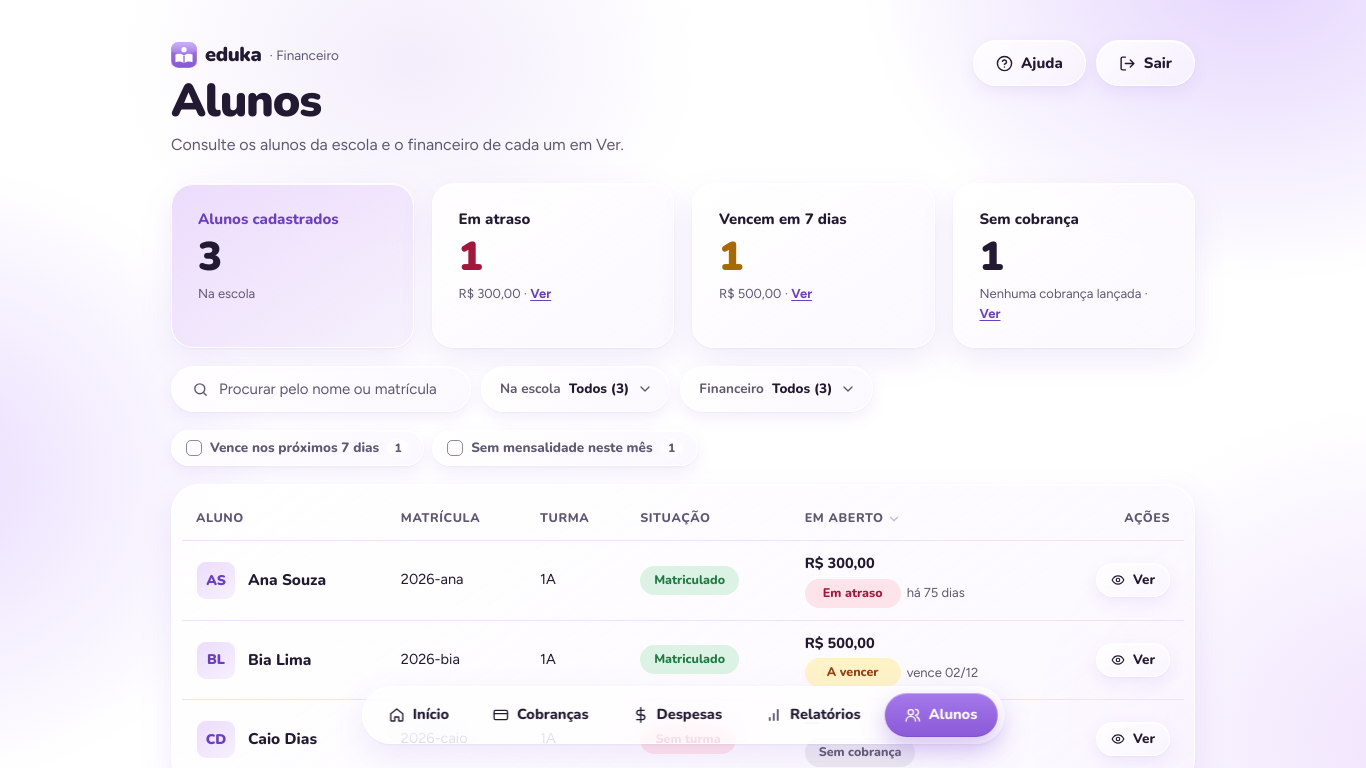
Alunos: o financeiro de cada aluno › combina o filtro da escola com o financeiro e os demais filtros, e limpa todos
Expected: the text "Ana Souza" is shown, [248, 570, 326, 590]
Click the dropdown named "Filtrar por situação" at [576, 389], box [481, 366, 670, 412]
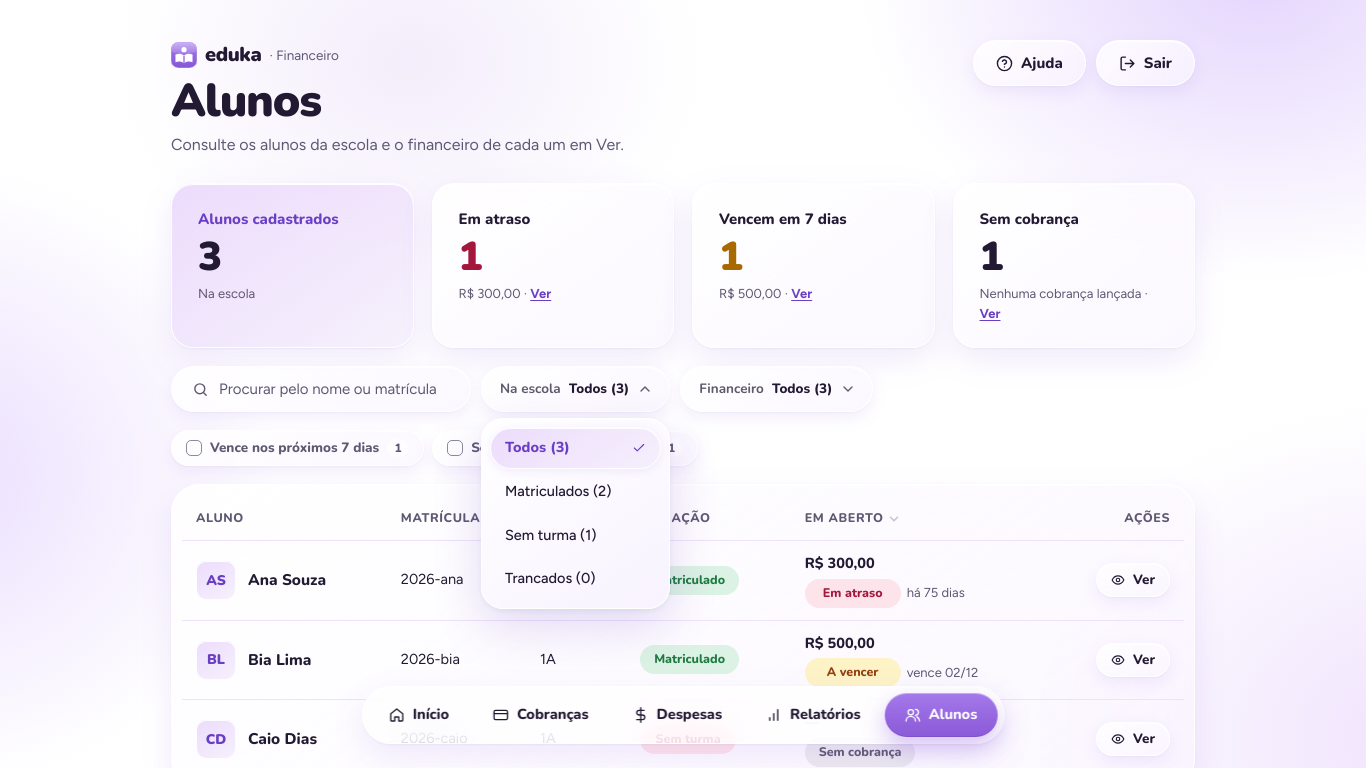
Click the option "Sem turma (1)" at [551, 535], box [505, 526, 596, 544]
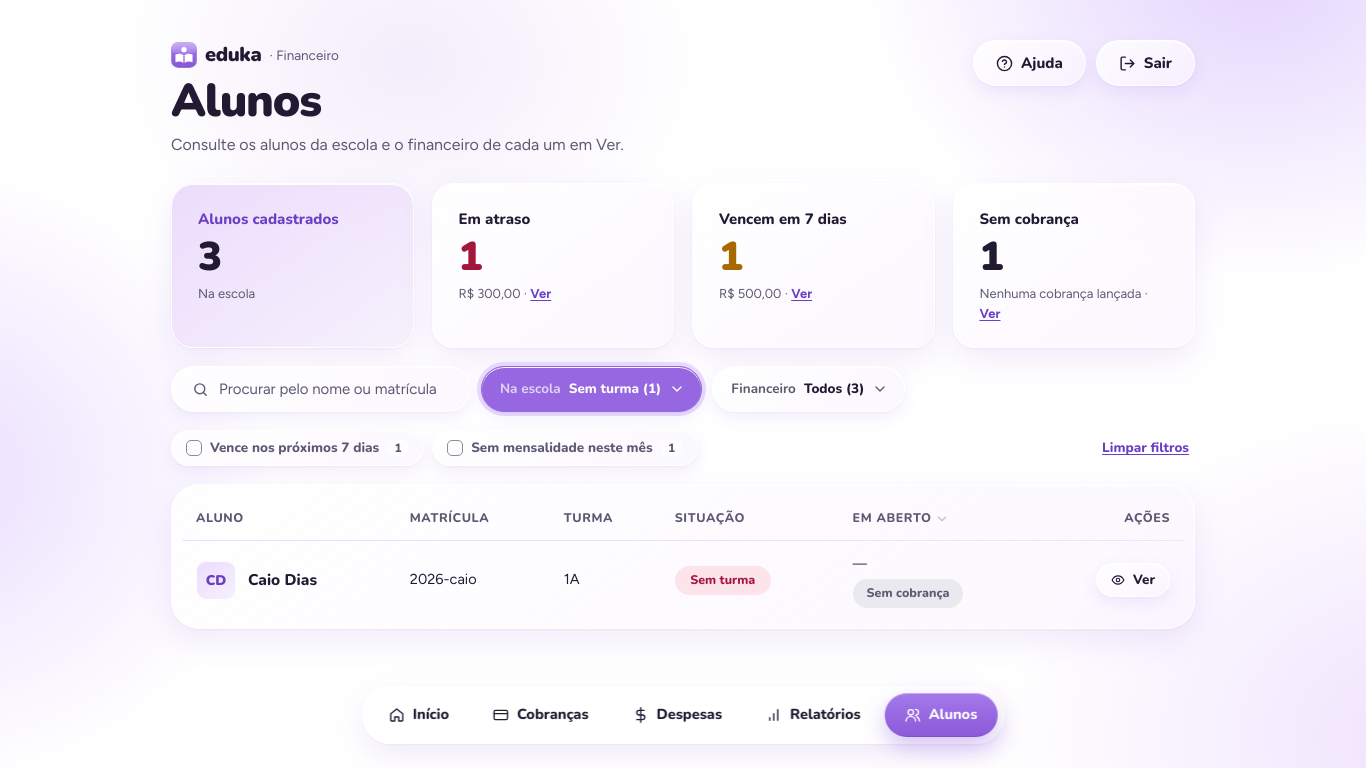
Click the button "Sem mensalidade neste mês 1" at [565, 448], box [432, 430, 698, 466]
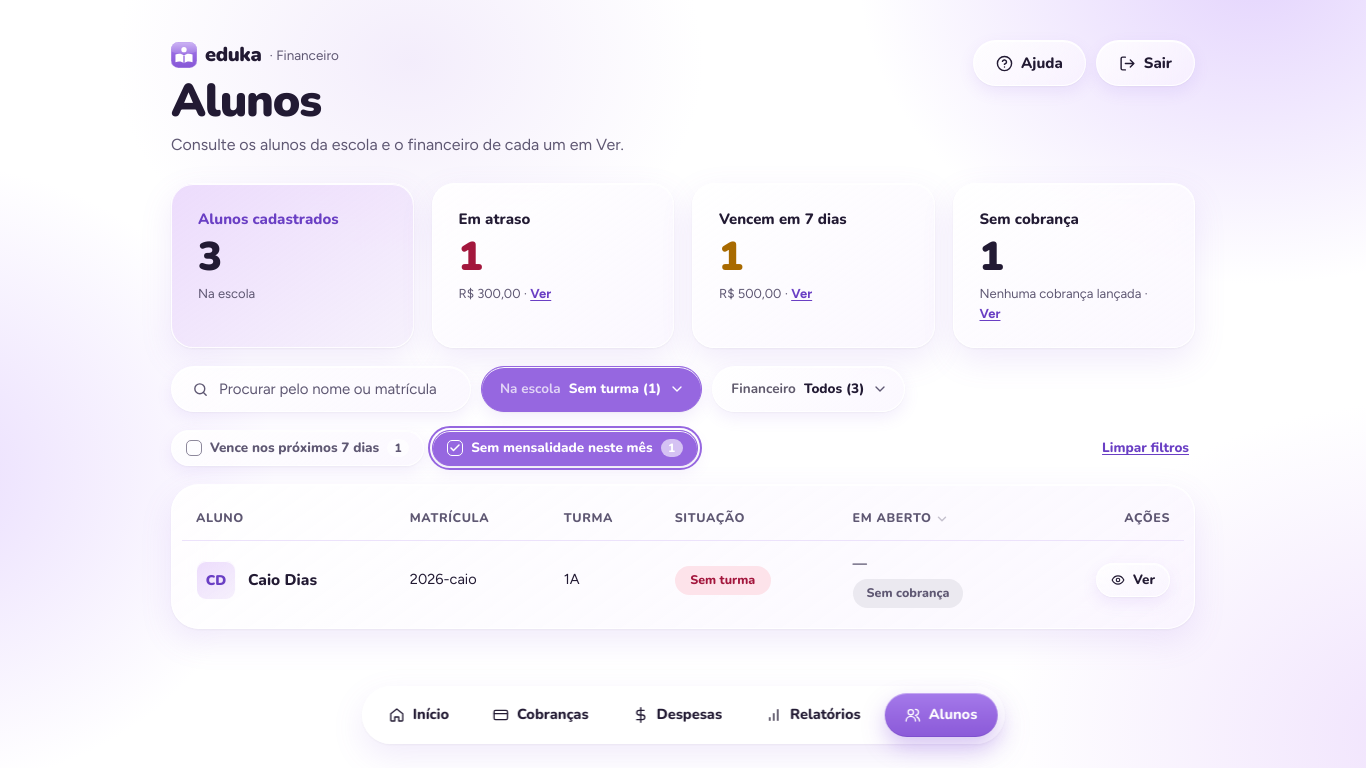
Expected: the text "Caio Dias" is shown, [248, 570, 317, 590]
Expected: the text "Ana Souza" is not shown
Click the button "Limpar filtros" at [1146, 448], box [1096, 431, 1195, 465]
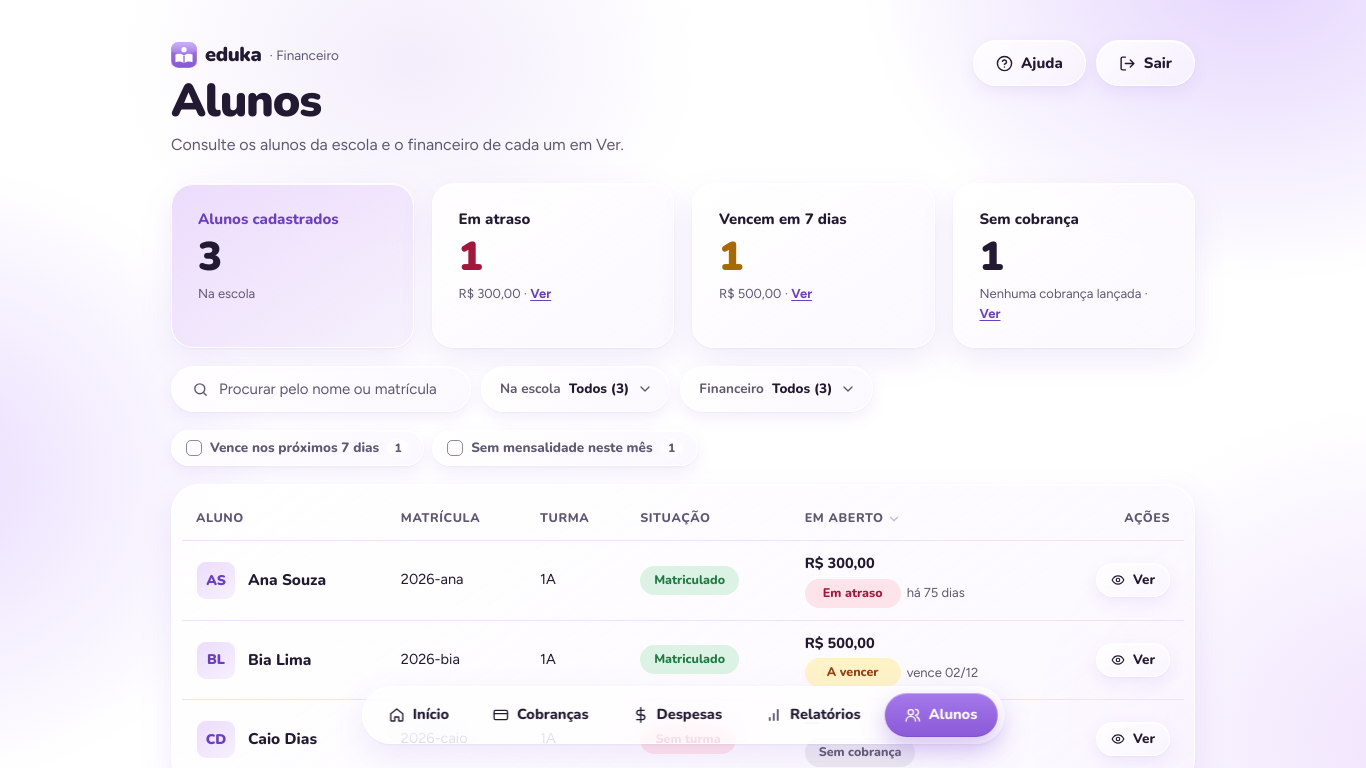
Result: the text "Ana Souza" is shown at [248, 570, 326, 590]
